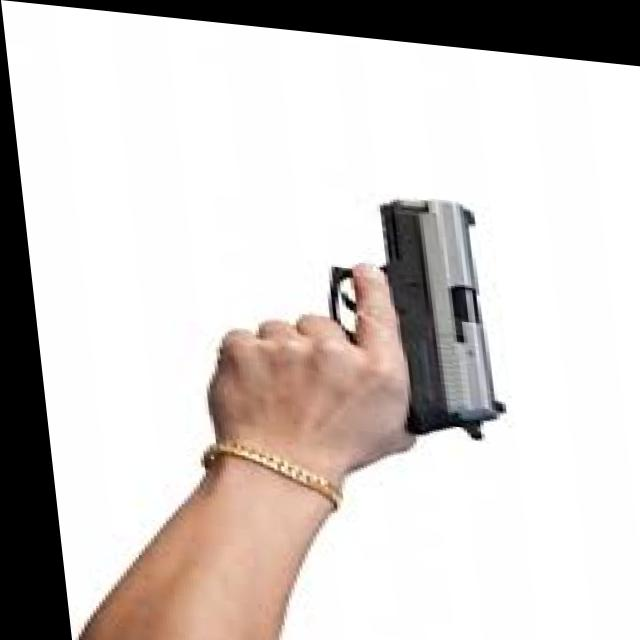handgun: (195, 173, 512, 460)
